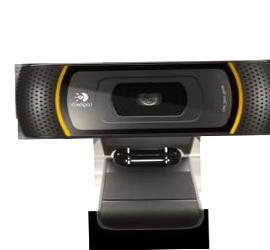webcam: (6, 54, 270, 147)
